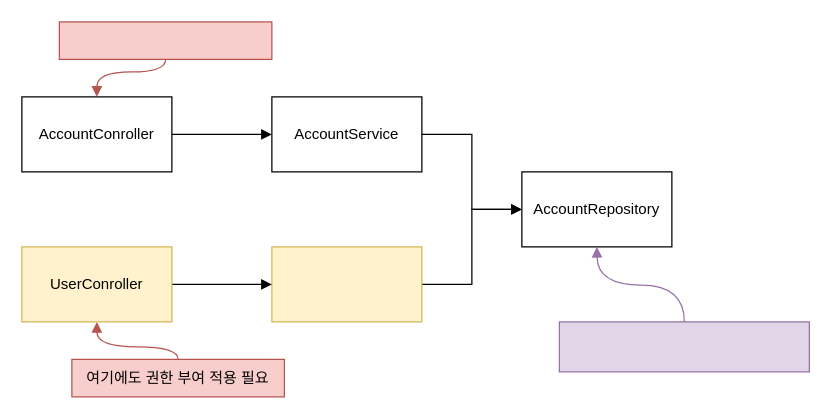
The diagram is 831 pixels wide and 419 high, and some of its shapes have lost their labels. The box of each missing label's shape, as (x1, y1, x2, y2) in pixels:
UserService: (271, 246, 422, 322)
계정과 연관된 권한 부여 구성 적용: (58, 21, 272, 59)
권한 부여 구성을 이곳에 하는 것이 좋음: (558, 321, 809, 372)
